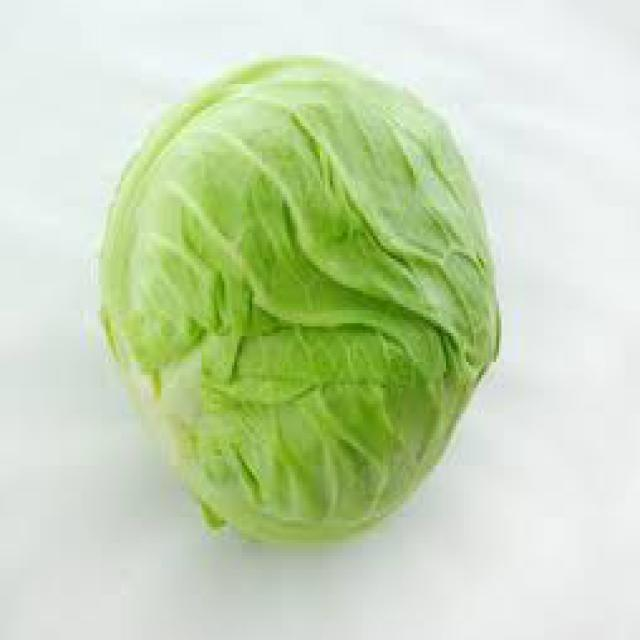Cabbage: (97, 51, 501, 542)
